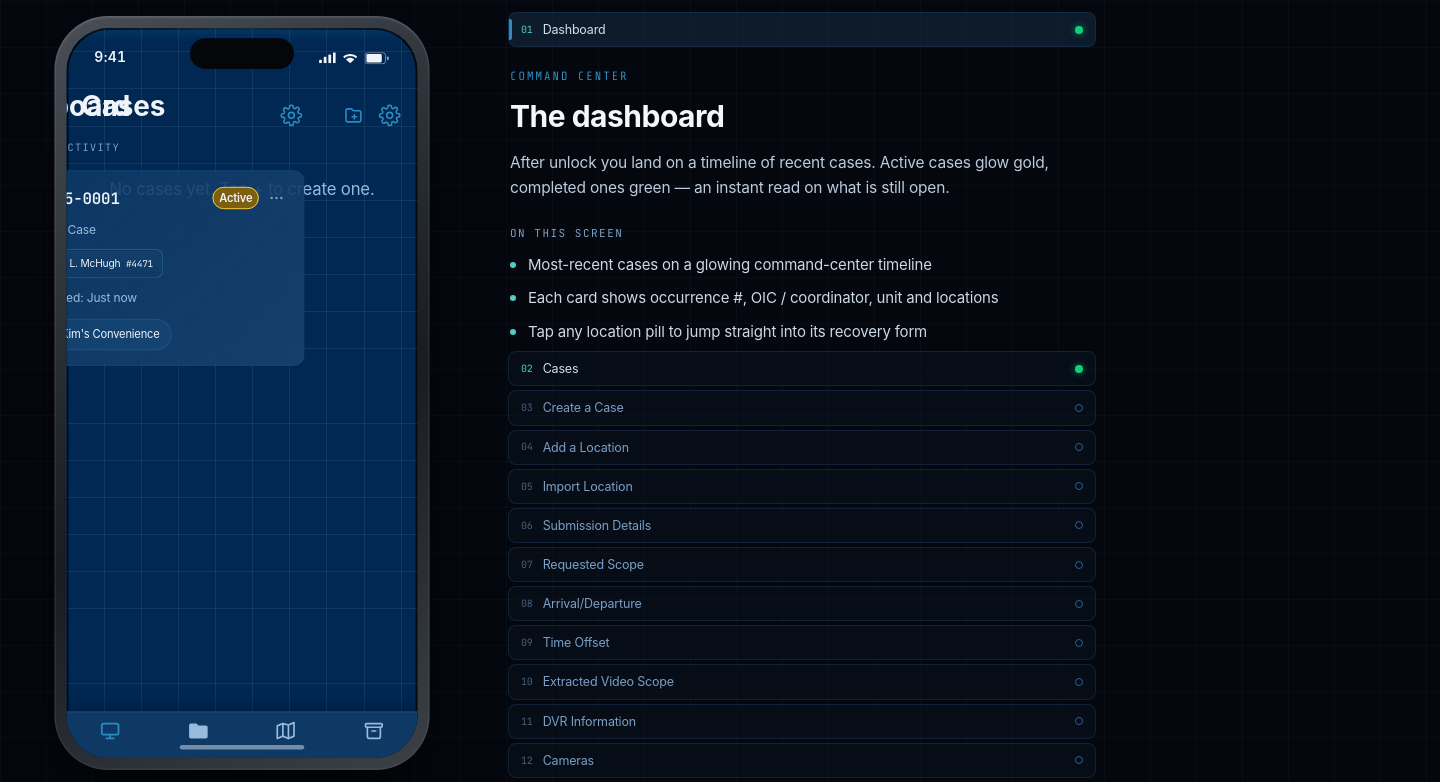
Case Actions Sheet — status actions › Complete Case closes the sheet, greens the card, and stamps NO location
(page scrolled)
Click the button named "Case actions for PR25-0001".
click(276, 198)  # box [264,186,288,210]
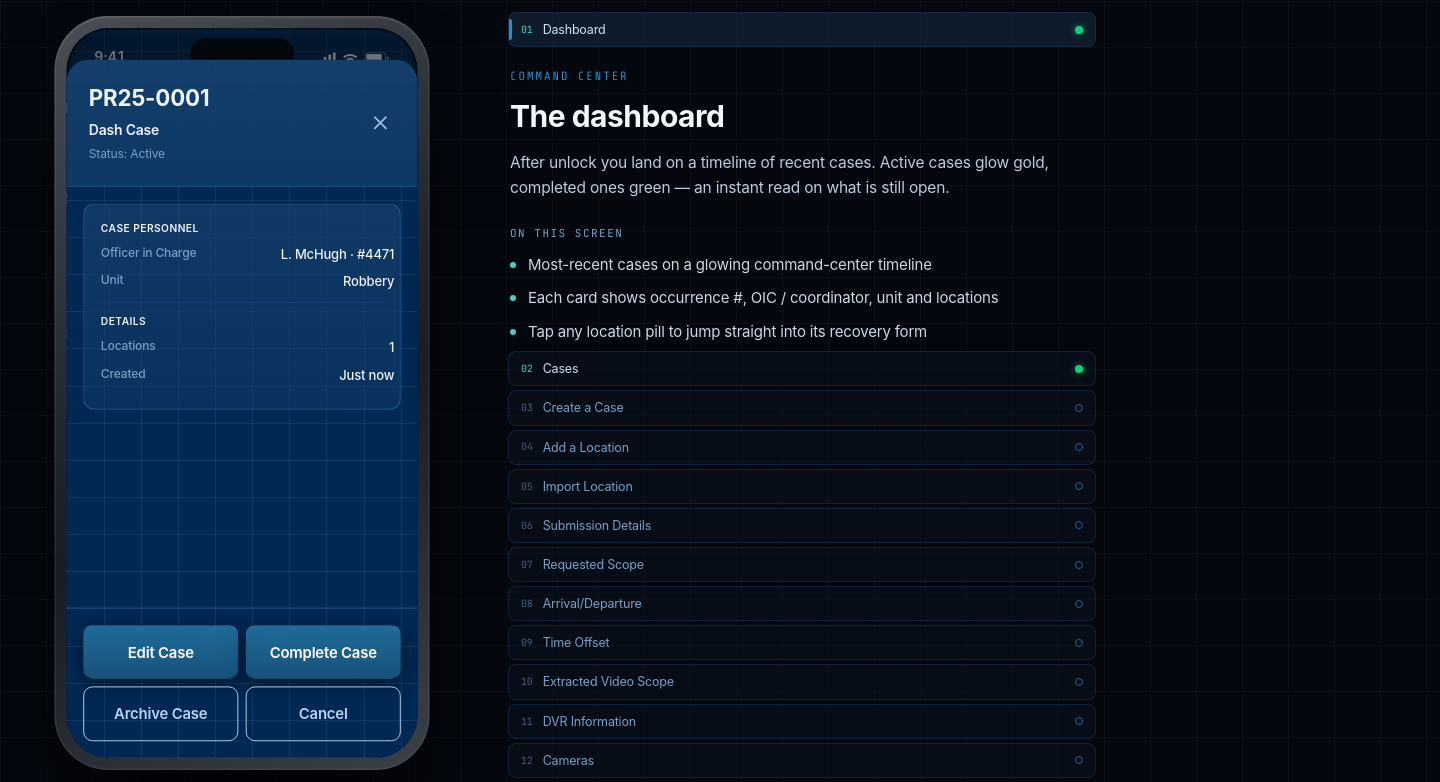
Click the button "Complete Case".
click(323, 652)  # box [246,625,401,680]
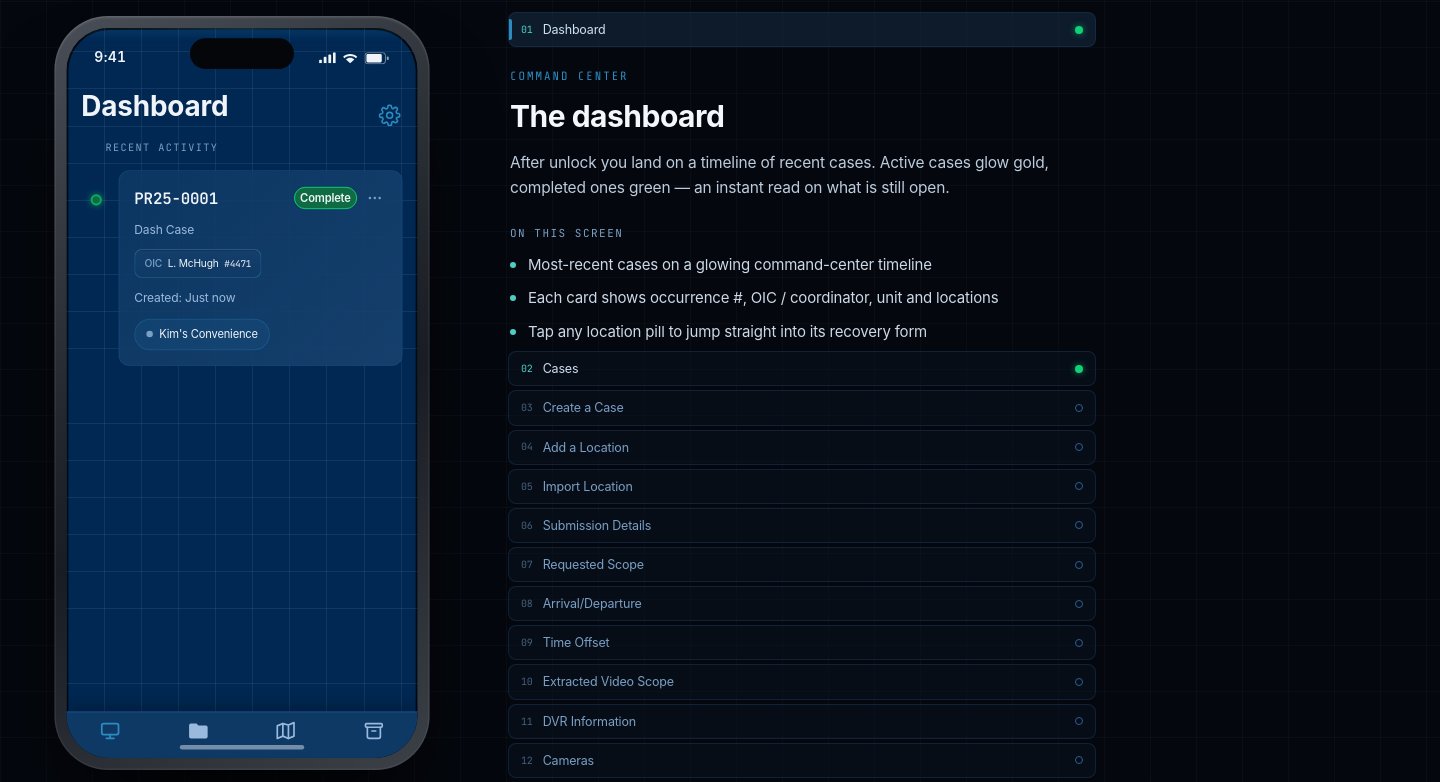
Expected: the text "Complete" is shown, [294,187,357,209]
